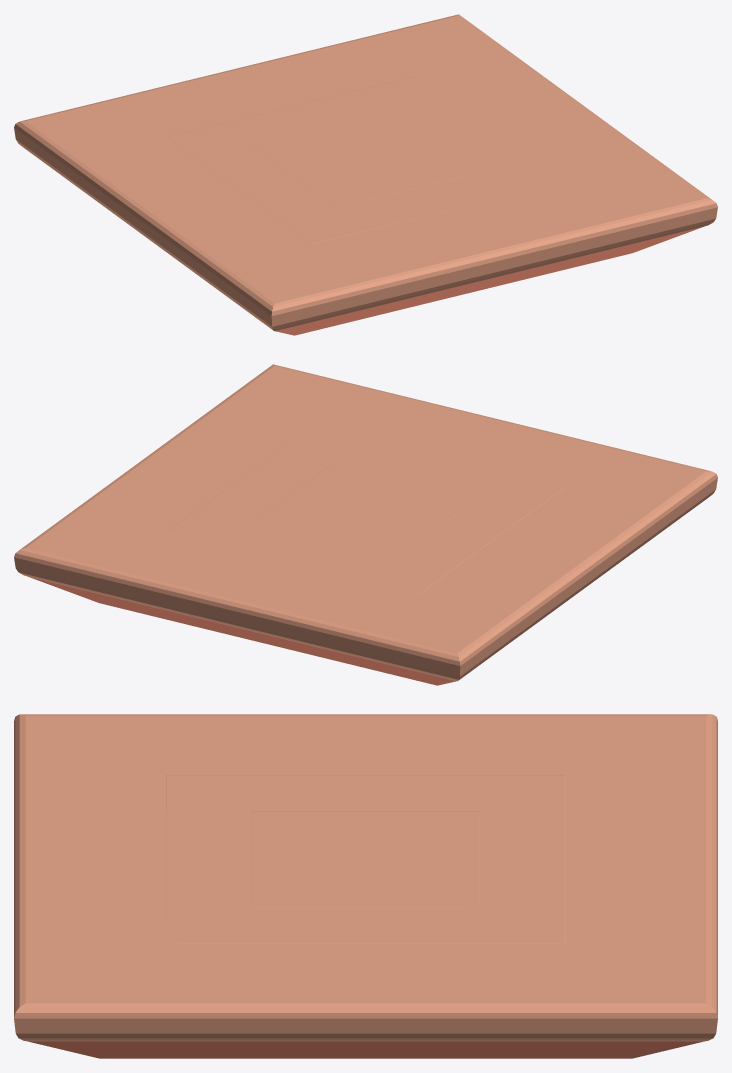
File: AutumnIslands.fbx
The picture shows the model from 3 angles, top to bottom: view 1: azimuth 30°, elevation 25°; view 2: azimuth 150°, elevation 25°; view 3: azimuth 270°, elevation 25°; orthographic projection. The views are drawn at different scales.
Parts seen in each view (by area): view 1: BaseAutumnL01, BaseAutumnM01, BaseAutumnS01; view 2: BaseAutumnL01, BaseAutumnM01, BaseAutumnS01; view 3: BaseAutumnL01, BaseAutumnM01, BaseAutumnS01.
Boxes of the visible parts, x1,y1,x2,y2 form: BaseAutumnL01: (14,14,717,335); BaseAutumnM01: (166,75,564,243); BaseAutumnS01: (252,111,479,207); BaseAutumnL01: (14,364,717,685); BaseAutumnM01: (167,425,565,593); BaseAutumnS01: (252,461,479,557); BaseAutumnL01: (14,714,717,1058); BaseAutumnM01: (166,775,565,943); BaseAutumnS01: (252,811,479,907).
Bounding box in the file's own units: 5991 × 1600 × 5991.
